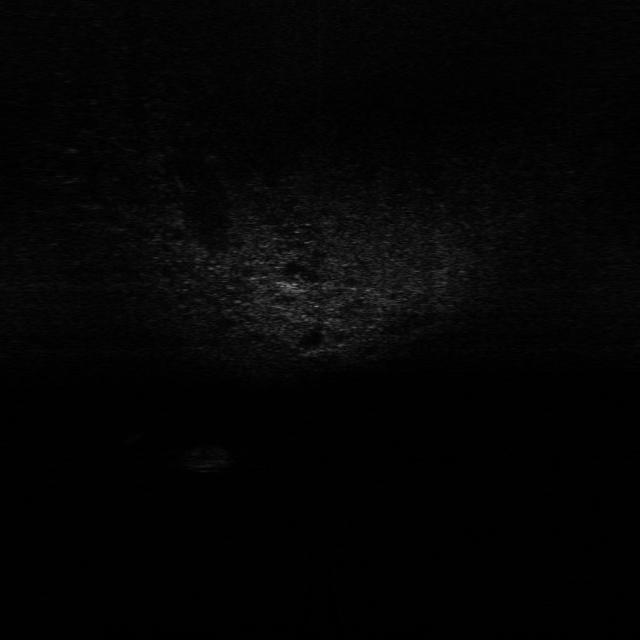circle cage: (183, 439, 233, 470)
cylinder: (120, 424, 144, 448)
